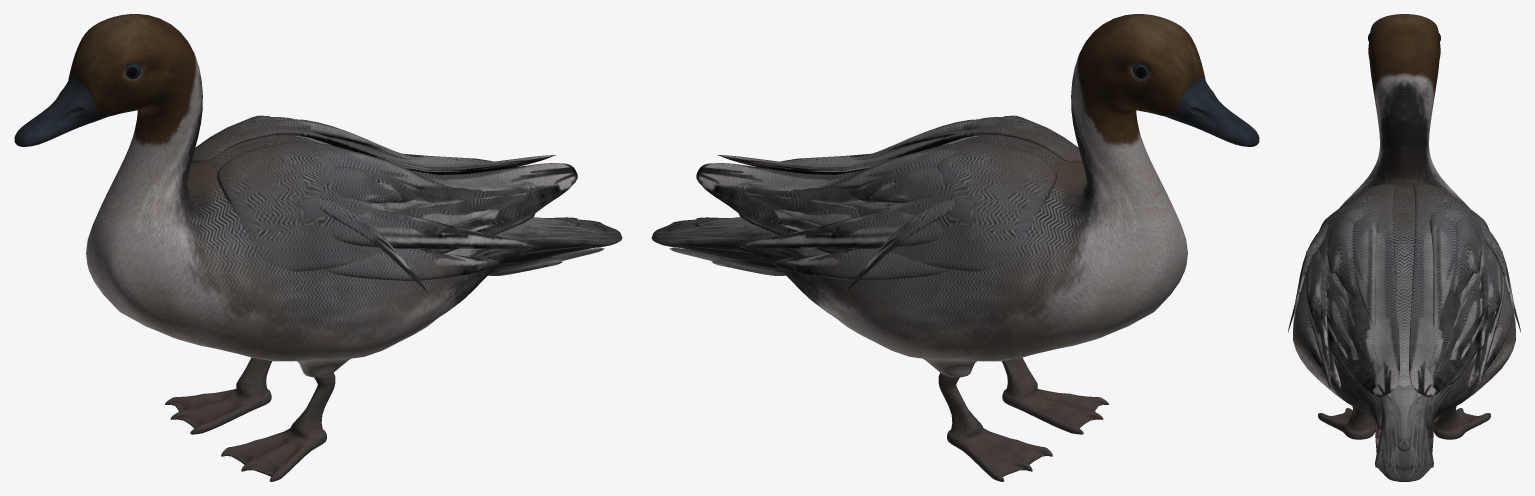
The model's file is thinmouthbird.fbx.
3 views of the same model, side by side, from view 1: azimuth 30°, elevation 25°; view 2: azimuth 150°, elevation 25°; view 3: azimuth 270°, elevation 25° (orthographic). The views are drawn at different scales.
Parts seen in each view (by area): view 1: Cube.008; view 2: Cube.008; view 3: Cube.008.
Boxes of the visible parts, x1,y1,x2,y2 form: Cube.008: (14, 14, 622, 481); Cube.008: (651, 14, 1259, 481); Cube.008: (1288, 14, 1520, 481).
Bounding box in the file's own units: 309 × 219 × 127.
Materials: 1 (1 with a texture image).
